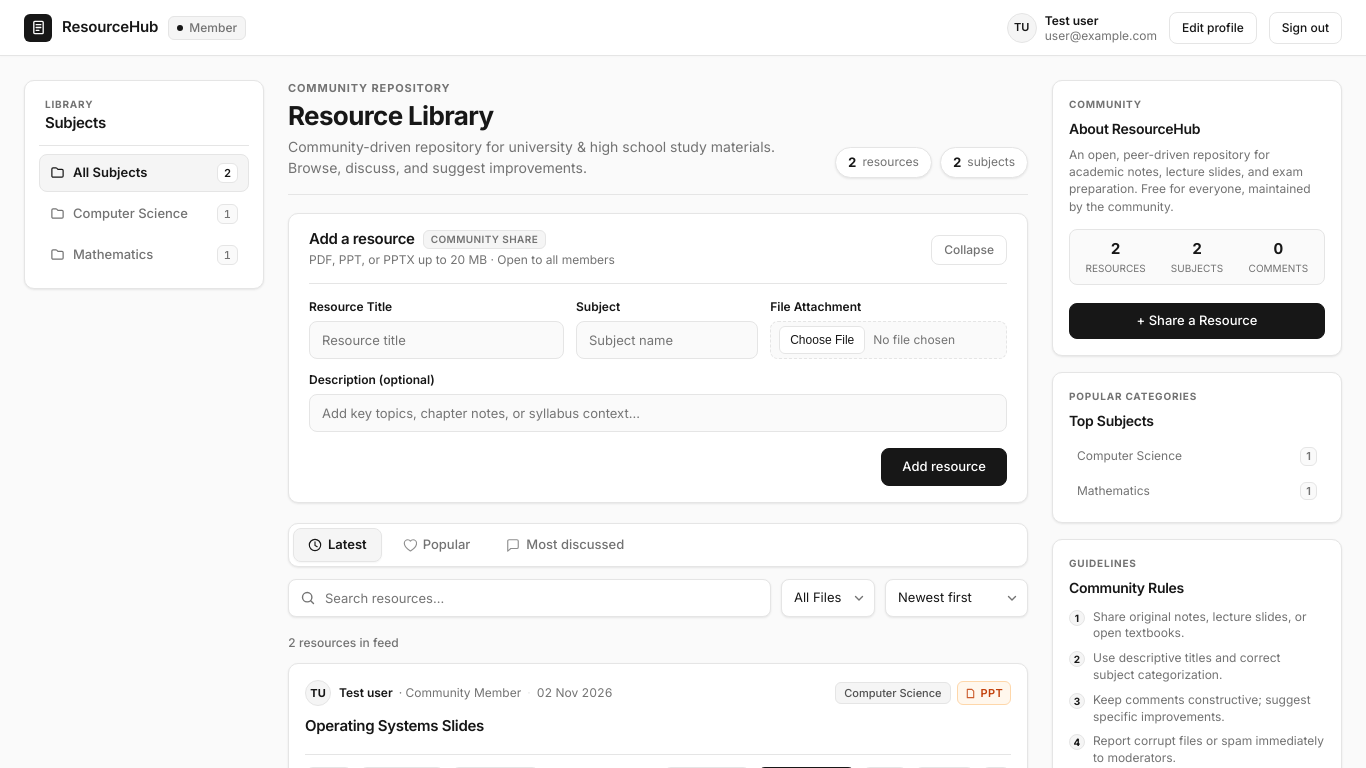
Scenario: ResourceHub Universal Community Platform UI & Access Control › search, subject filter, file-type filter, likes, and legacy PPT fallback preview work properly
Expected: the heading "Operating Systems Slides" is shown, [305,716,484,735]
// Search filter
In the field with placeholder "Search resources...": (530, 598) [288,579,771,617], type "Linear"
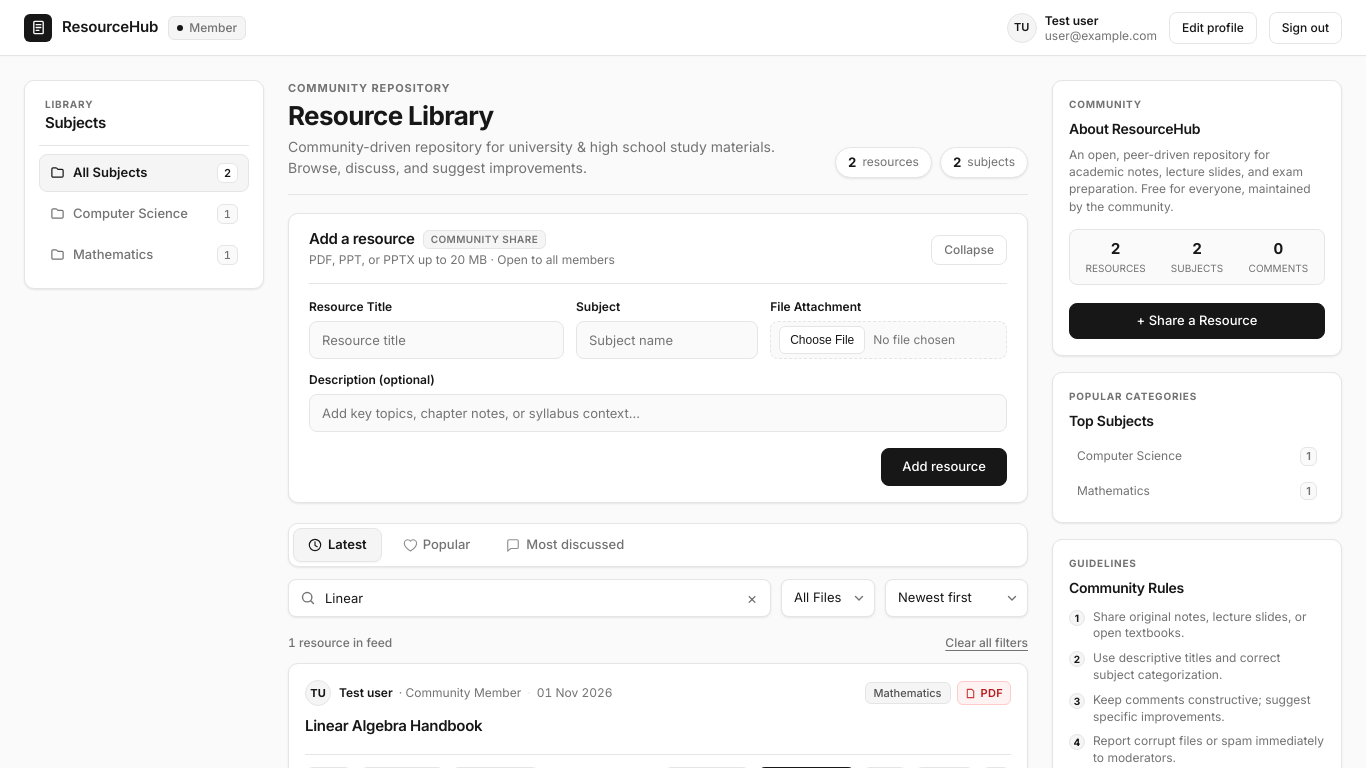
Expected: the heading "Linear Algebra Handbook" is shown, [305,716,482,735]
Expected: the heading "Operating Systems Slides" is gone
// Clear search
Clear the field with placeholder "Search resources...": (530, 598) [288,579,771,617]
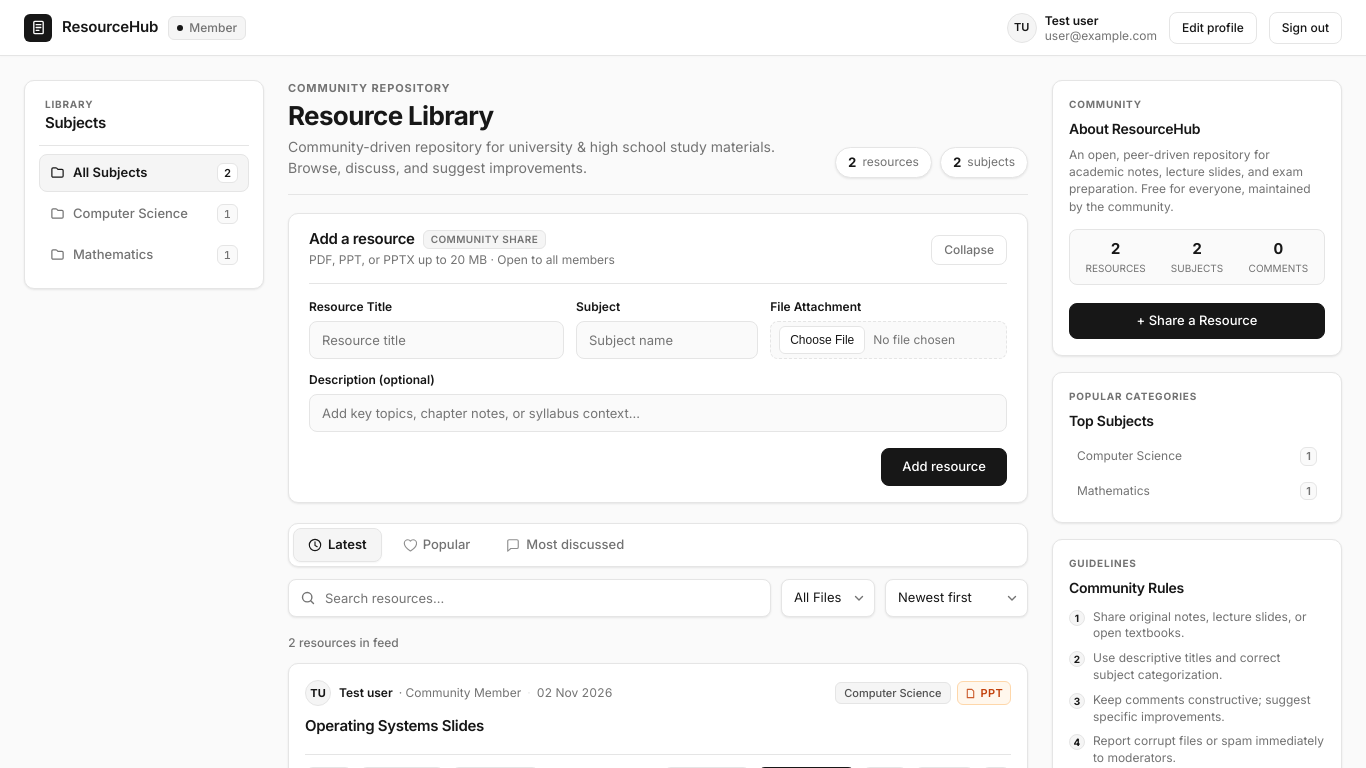
// File type filter
Select "PPT" in the dropdown named "Filter by file type": (828, 598) [781,579,875,617]
(page scrolled)
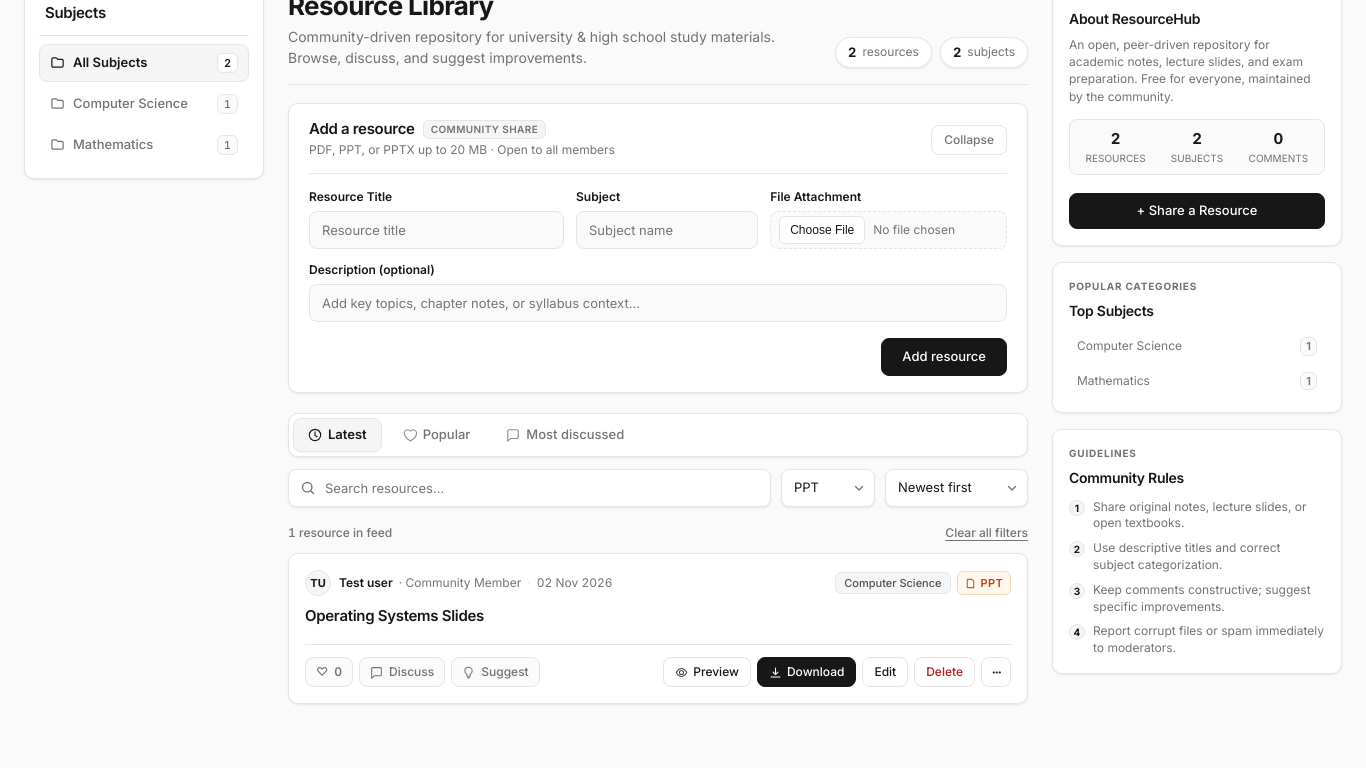
Expected: the heading "Operating Systems Slides" is shown, [305,606,484,625]
Click the button named "like resource": (329, 672) [305,657,353,687]
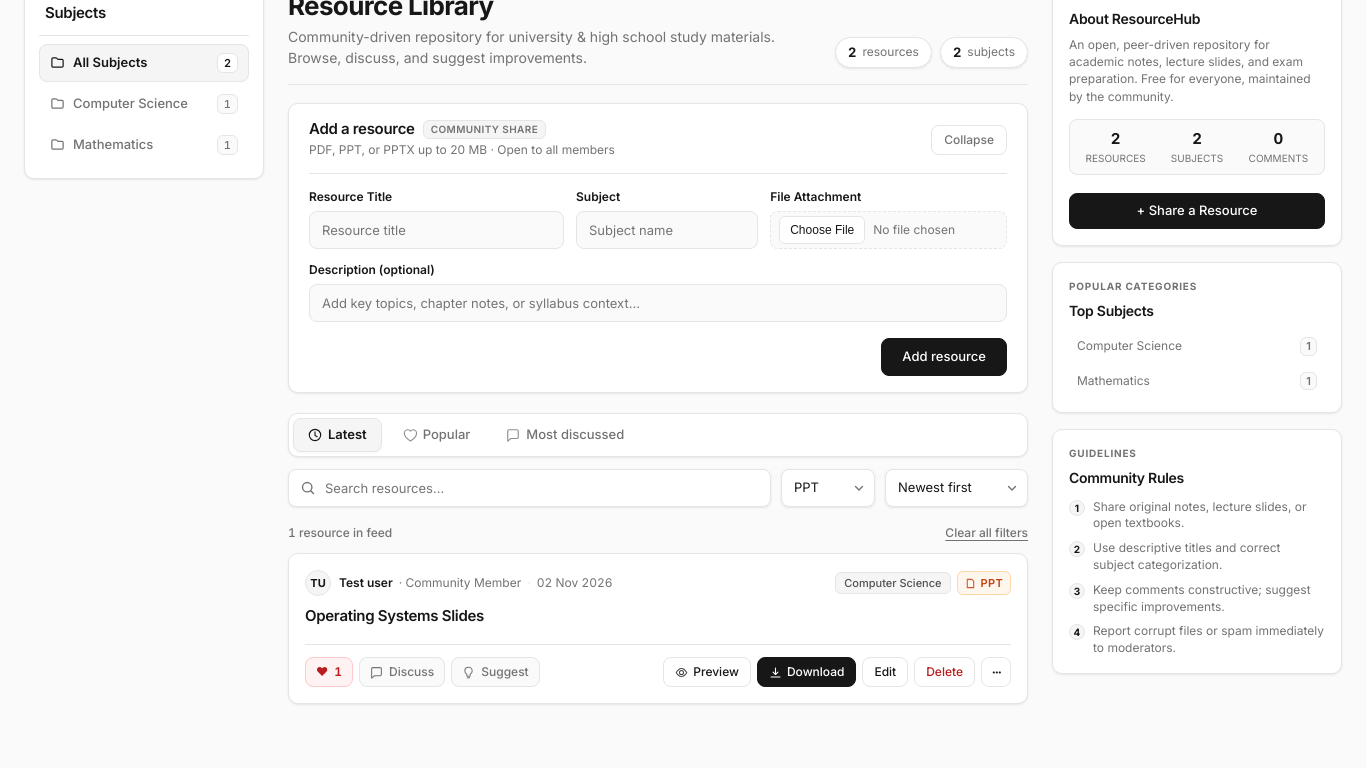
// Legacy PPT preview shows fallback download card
Click the button "Preview": (707, 672) [663,657,751,687]
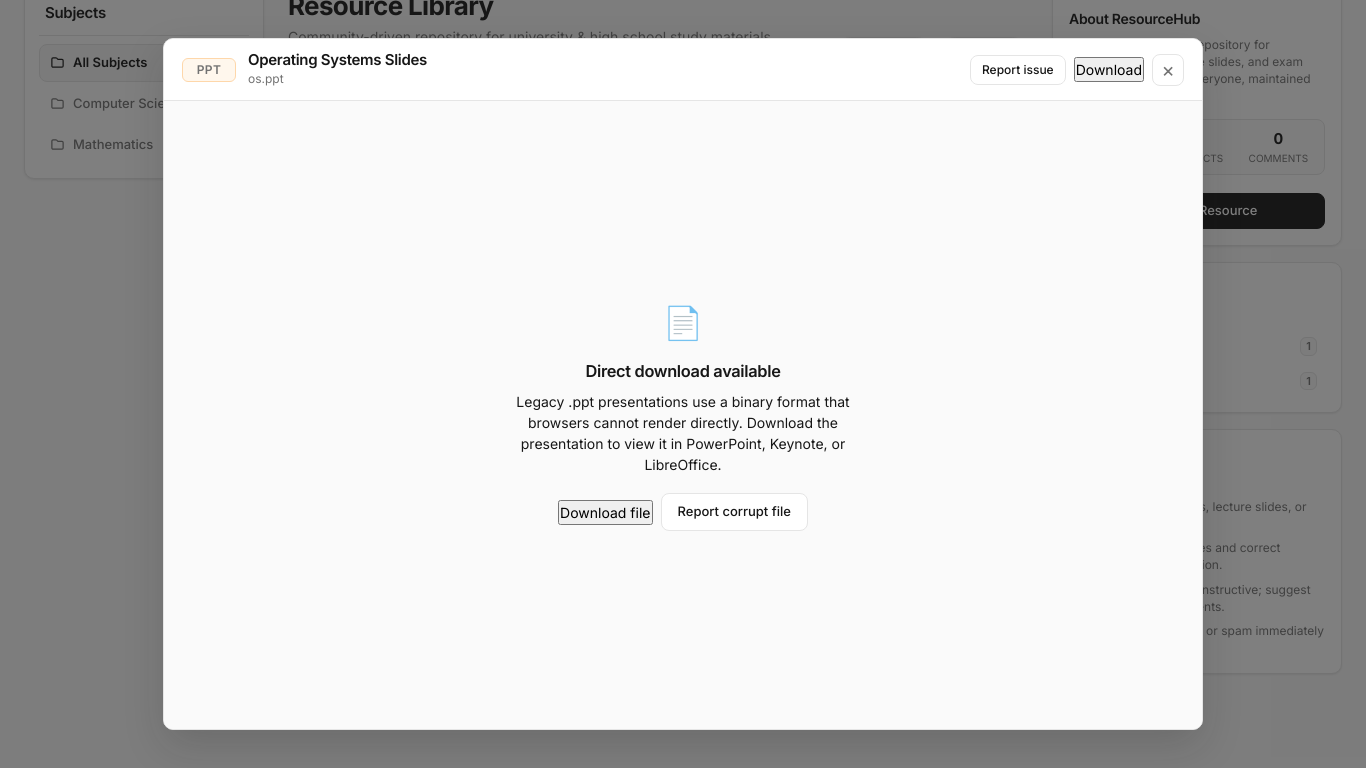
Expected: the text "Legacy .ppt presentations use a binary format" is shown, [516,393,850,473]
